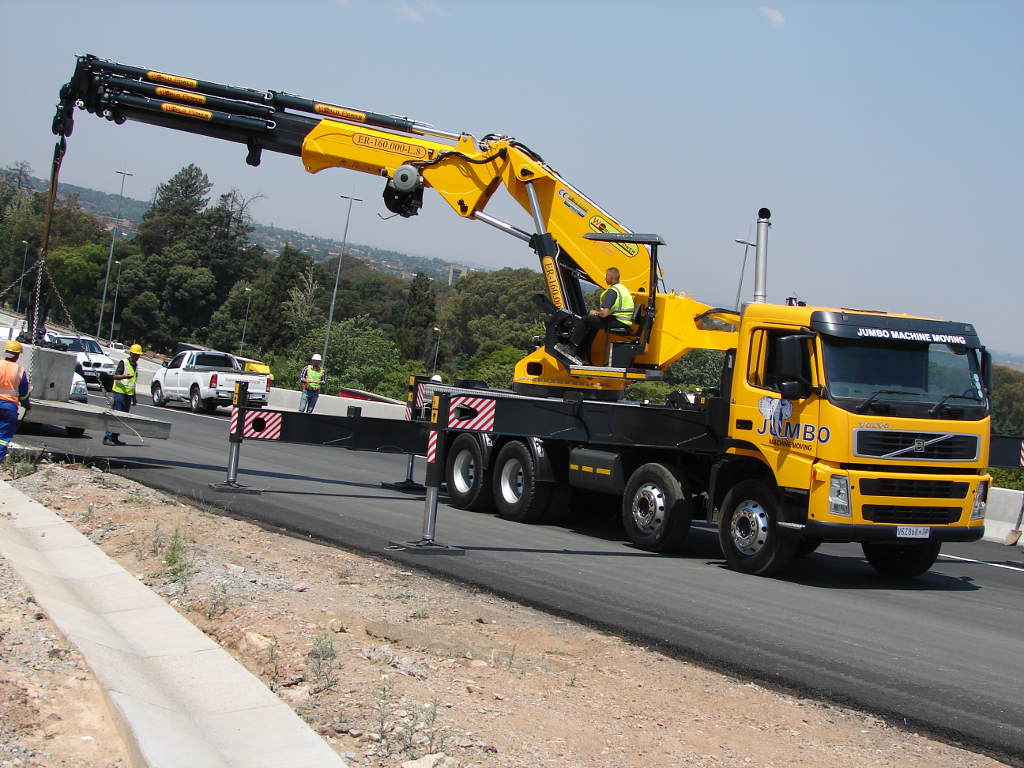crane: (53, 45, 1002, 600)
